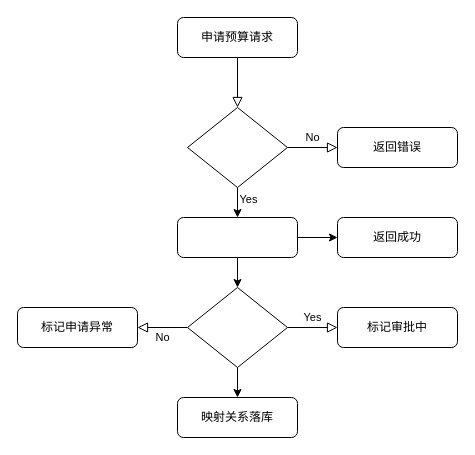
The diagram is 475 pixels wide and 455 high, and some of its shapes have lost their labels. The shapes that lost their labels are listed below. From the top down, each one's centre as x and y in pixels, then its label:
At pixel 237 147: "project总配额 扣減成功".
At pixel 237 237: "提交各种资源申请".
At pixel 237 327: "提交成功".
